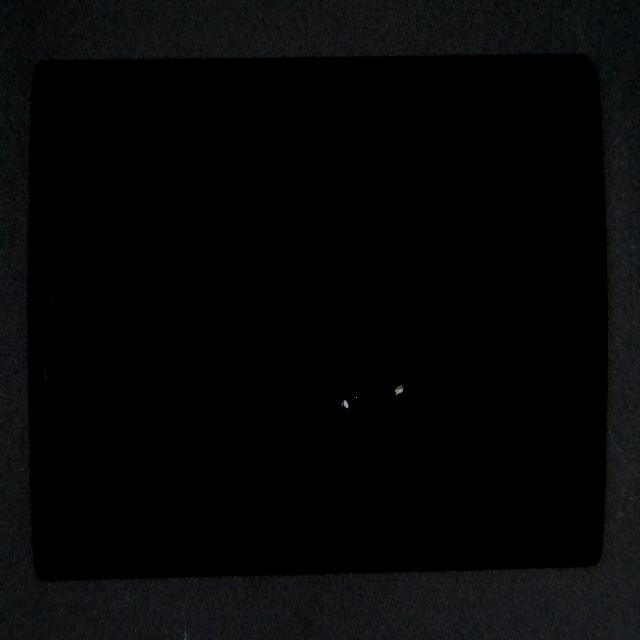stain: (162, 199, 498, 631), (209, 160, 584, 547)
